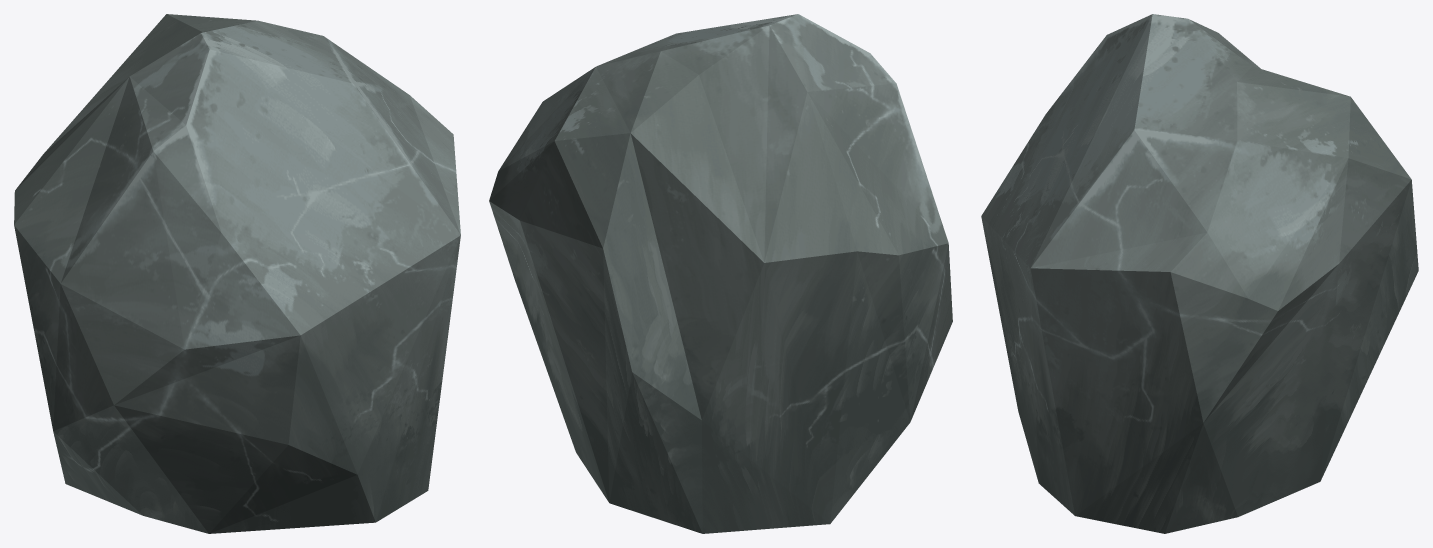
Rendered from glaz_3.obj.
3 views of the same model, side by side, from view 1: azimuth 30°, elevation 25°; view 2: azimuth 150°, elevation 25°; view 3: azimuth 270°, elevation 25° (orthographic). The views are drawn at different scales.
Parts seen in each view (by area): view 1: rock.012; view 2: rock.012; view 3: rock.012.
Part boxes in pixels (bbox=[...]): rock.012: bbox=[14, 14, 460, 533]; rock.012: bbox=[489, 14, 952, 533]; rock.012: bbox=[981, 14, 1418, 533].
Bounding box in the file's own units: 14.49 × 15.33 × 14.4.
1 material, 1 textured.
